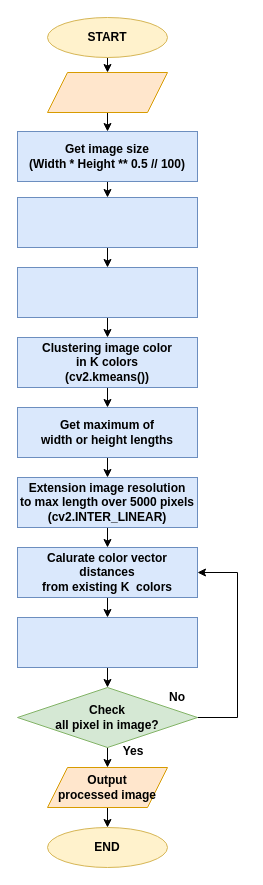
Some shapes in this 263 by 885 pixel diagram are drawn without their labels. The box of each missing label's shape, as (x1, y1, x2, y2) in pixels:
Apply cv2.bilateralFilter(), cv2.medianBlur(): (16, 266, 198, 318)
Input origin image: (46, 72, 168, 112)
Matching color with shortest distance among K colors: (16, 616, 198, 668)
Set cv2.bilateralFilter() Parmeters: (16, 196, 198, 248)
